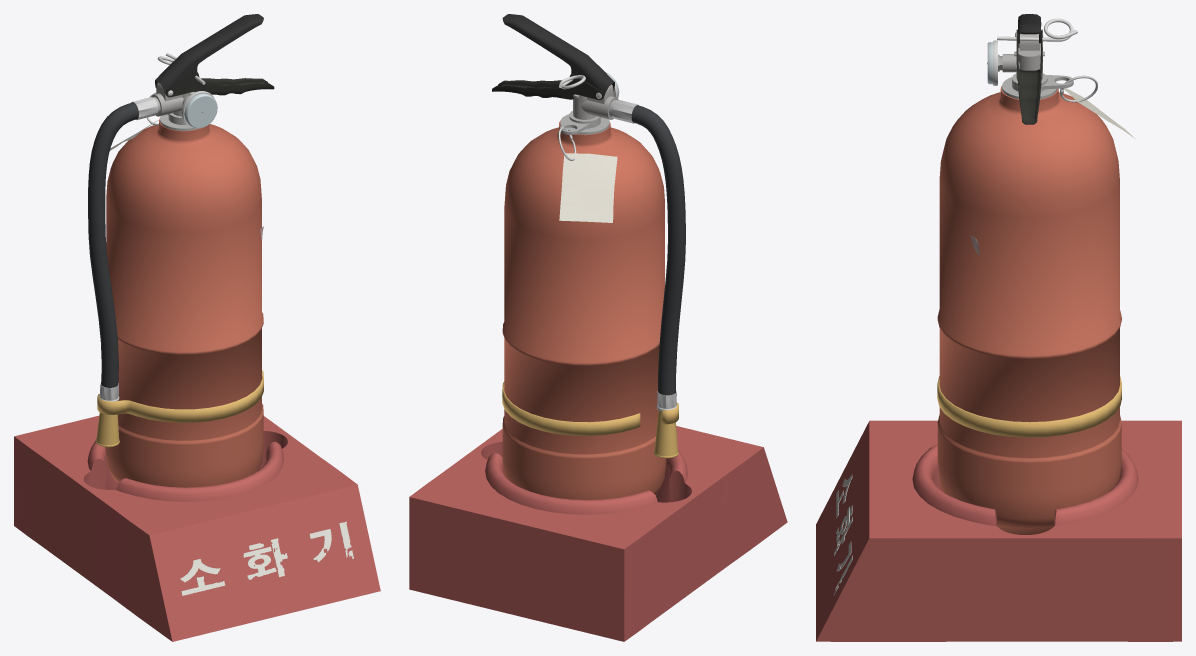
Rendered from extinguisher-detailed.fbx.
3 views of the same model, side by side, from view 1: azimuth 30°, elevation 25°; view 2: azimuth 150°, elevation 25°; view 3: azimuth 270°, elevation 25° (orthographic). The views are drawn at different scales.
Visible parts, largest first — view 1: Body, Base, StowedHose, Lever, Nozzle, Physical_소화기_05; view 2: Body, Base, StowedHose, Lever, Nozzle; view 3: Body, Base, SafetyPin.
Boxes of the visible parts, box(x1,y1,x2,y2) form: Body: box(97, 72, 274, 487); Base: box(14, 415, 380, 641); StowedHose: box(88, 102, 138, 387); Lever: box(155, 14, 263, 95); Nozzle: box(95, 412, 119, 447); Physical_소화기_05: box(243, 546, 276, 579); Body: box(492, 72, 678, 499); Base: box(409, 426, 787, 641); StowedHose: box(631, 105, 685, 395); Lever: box(502, 14, 614, 97); Nozzle: box(654, 410, 678, 458); Body: box(937, 29, 1135, 534); Base: box(816, 420, 1181, 641); SafetyPin: box(997, 18, 1077, 41).
Size of the model in its own units: 28 by 65.93 by 36.74.
